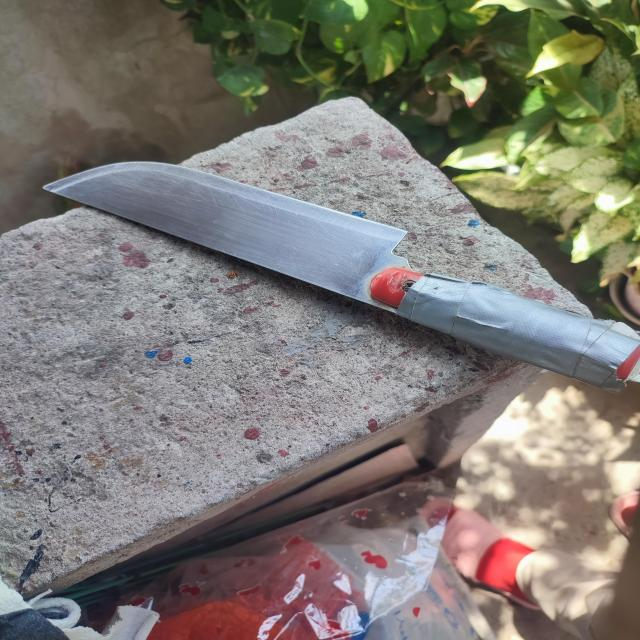knife: (41, 161, 640, 382)
